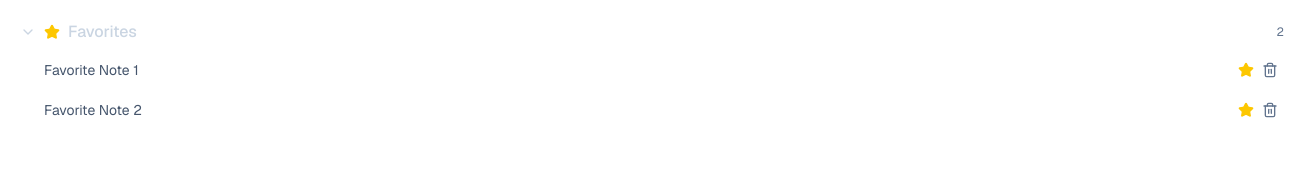
Test: FavoritesSection › should be collapsible
Check: the button "Favorite Note 1" is shown, box top-left (44, 61), bottom-right (139, 79)
Step 1. Click the button "Favorites 2" → click(102, 32), box top-left (12, 12), bottom-right (1292, 52)
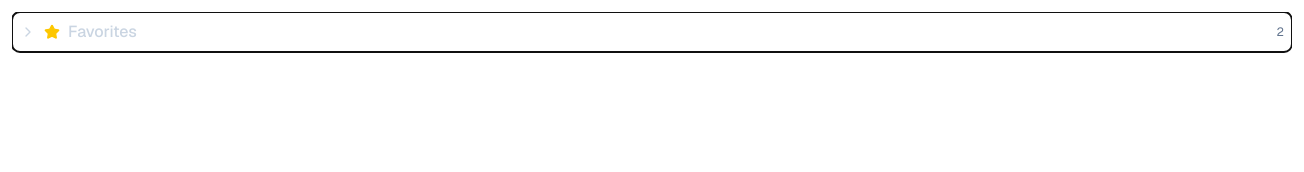
Check: the button "Favorite Note 1" is gone
